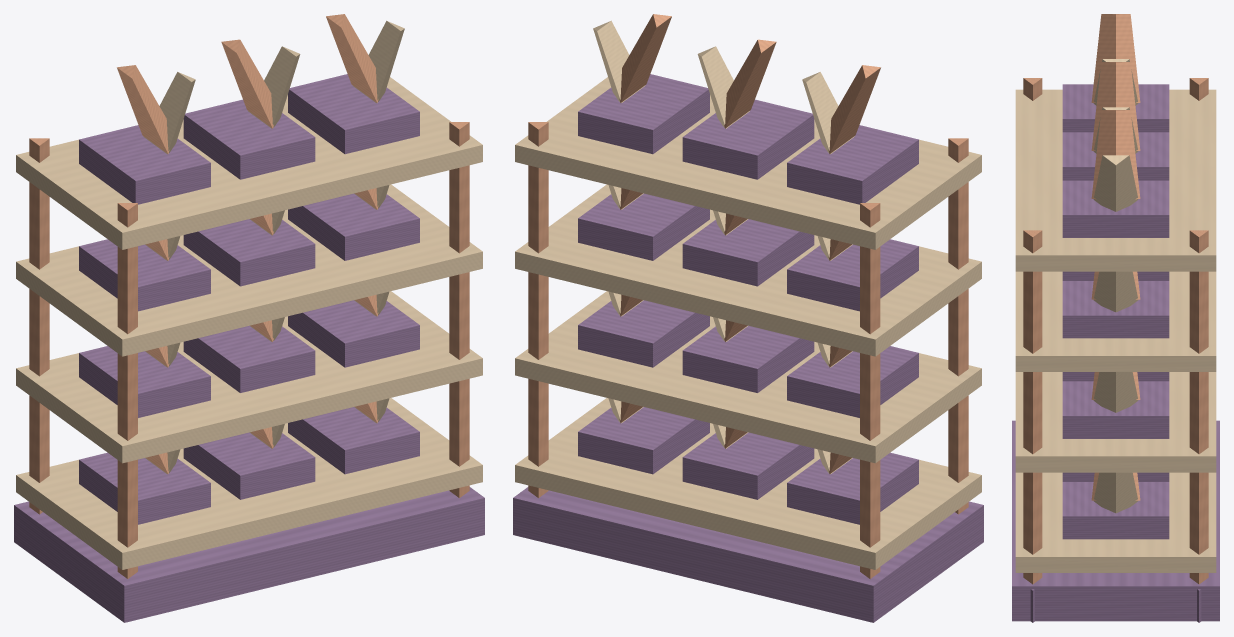
File: atlas100-s085-a01.lod1.glb
3 renders of one model, left to right at view 1: azimuth 30°, elevation 25°; view 2: azimuth 150°, elevation 25°; view 3: azimuth 270°, elevation 25°, orthographic. The views are drawn at different scales.
Visible parts, largest first — view 1: atlas100-s085-a01:part-000, atlas100-s085-a01:part-041, atlas100-s085-a01:part-031, atlas100-s085-a01:part-011, atlas100-s085-a01:part-021, atlas100-s085-a01:part-045, atlas100-s085-a01:part-048, atlas100-s085-a01:part-042, atlas100-s085-a01:part-015, atlas100-s085-a01:part-035, atlas100-s085-a01:part-025, atlas100-s085-a01:part-018 (+14 smaller); view 2: atlas100-s085-a01:part-000, atlas100-s085-a01:part-041, atlas100-s085-a01:part-031, atlas100-s085-a01:part-011, atlas100-s085-a01:part-021, atlas100-s085-a01:part-045, atlas100-s085-a01:part-048, atlas100-s085-a01:part-042, atlas100-s085-a01:part-015, atlas100-s085-a01:part-035, atlas100-s085-a01:part-025, atlas100-s085-a01:part-018 (+14 smaller); view 3: atlas100-s085-a01:part-041, atlas100-s085-a01:part-000, atlas100-s085-a01:part-021, atlas100-s085-a01:part-011, atlas100-s085-a01:part-031, atlas100-s085-a01:part-007, atlas100-s085-a01:part-009, atlas100-s085-a01:part-018, atlas100-s085-a01:part-038, atlas100-s085-a01:part-028, atlas100-s085-a01:part-048, atlas100-s085-a01:part-045 (+13 smaller).
Boxes of the visible parts, bbox=[...] form: atlas100-s085-a01:part-000: bbox=[14, 487, 484, 622]; atlas100-s085-a01:part-041: bbox=[16, 77, 482, 249]; atlas100-s085-a01:part-031: bbox=[16, 184, 482, 356]; atlas100-s085-a01:part-011: bbox=[16, 398, 482, 569]; atlas100-s085-a01:part-021: bbox=[16, 291, 482, 463]; atlas100-s085-a01:part-045: bbox=[183, 99, 315, 179]; atlas100-s085-a01:part-048: bbox=[288, 74, 419, 154]; atlas100-s085-a01:part-042: bbox=[79, 125, 210, 204]; atlas100-s085-a01:part-015: bbox=[183, 432, 315, 499]; atlas100-s085-a01:part-035: bbox=[183, 219, 315, 286]; atlas100-s085-a01:part-025: bbox=[183, 325, 315, 392]; atlas100-s085-a01:part-018: bbox=[288, 407, 419, 474]; atlas100-s085-a01:part-000: bbox=[513, 487, 983, 622]; atlas100-s085-a01:part-041: bbox=[515, 77, 981, 249]; atlas100-s085-a01:part-031: bbox=[515, 184, 981, 356]; atlas100-s085-a01:part-011: bbox=[515, 398, 981, 569]; atlas100-s085-a01:part-021: bbox=[515, 291, 981, 463]; atlas100-s085-a01:part-045: bbox=[682, 99, 814, 179]; atlas100-s085-a01:part-048: bbox=[578, 74, 709, 154]; atlas100-s085-a01:part-042: bbox=[787, 125, 918, 204]; atlas100-s085-a01:part-015: bbox=[682, 432, 814, 499]; atlas100-s085-a01:part-035: bbox=[682, 219, 814, 286]; atlas100-s085-a01:part-025: bbox=[682, 325, 814, 392]; atlas100-s085-a01:part-018: bbox=[578, 407, 709, 474]; atlas100-s085-a01:part-041: bbox=[1015, 89, 1216, 271]; atlas100-s085-a01:part-000: bbox=[1012, 420, 1219, 621]; atlas100-s085-a01:part-021: bbox=[1015, 372, 1216, 472]; atlas100-s085-a01:part-011: bbox=[1015, 472, 1216, 572]; atlas100-s085-a01:part-031: bbox=[1015, 271, 1216, 371]; atlas100-s085-a01:part-007: bbox=[1189, 230, 1208, 584]; atlas100-s085-a01:part-009: bbox=[1023, 230, 1042, 584]; atlas100-s085-a01:part-018: bbox=[1062, 482, 1169, 539]; atlas100-s085-a01:part-038: bbox=[1062, 281, 1169, 338]; atlas100-s085-a01:part-028: bbox=[1062, 381, 1169, 438]; atlas100-s085-a01:part-048: bbox=[1062, 180, 1169, 237]; atlas100-s085-a01:part-045: bbox=[1062, 132, 1169, 180].
Size of the model in its own units: 2.66 by 3.51 by 1.4.
Materials: 3 (3 with a texture image).
